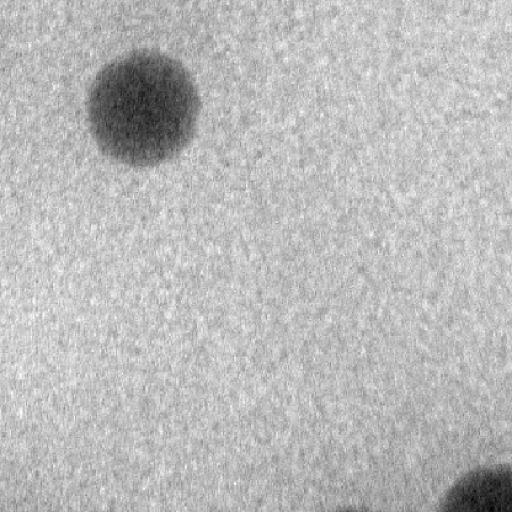Nanoparticles: (83, 44, 202, 170), (436, 462, 512, 512)
